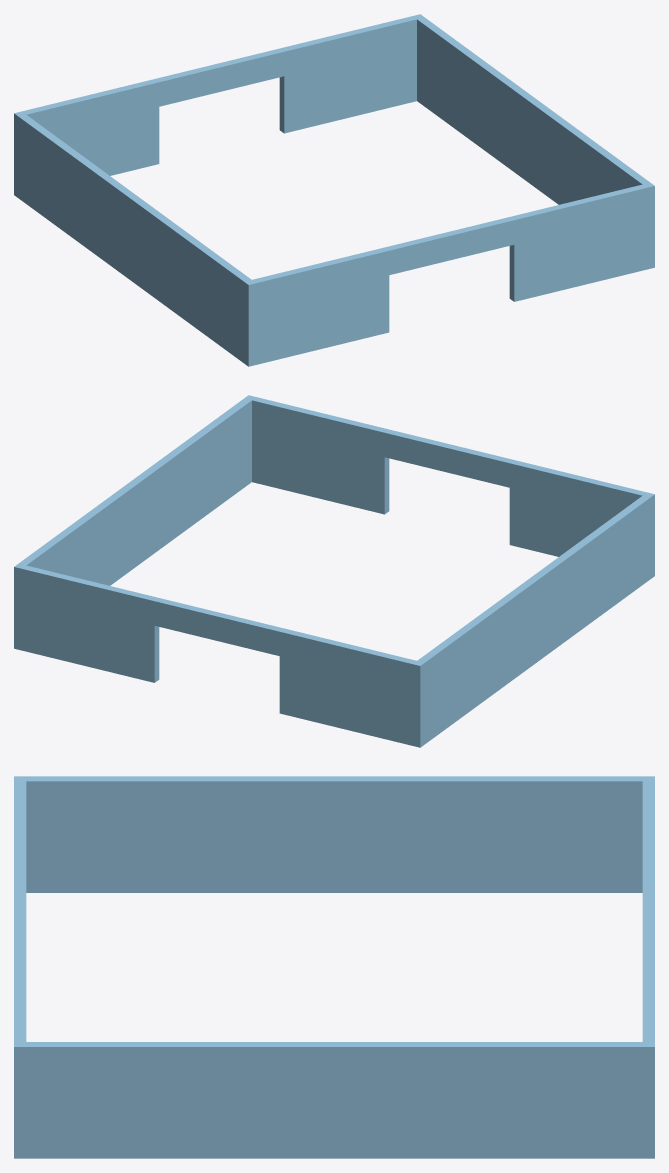
Rendered from Walls.dae.
The picture shows the model from 3 angles, top to bottom: view 1: azimuth 30°, elevation 25°; view 2: azimuth 150°, elevation 25°; view 3: azimuth 270°, elevation 25°; orthographic projection. The views are drawn at different scales.
Parts seen in each view (by area): view 1: ID2; view 2: ID2; view 3: ID2.
Part boxes in pixels (<box>): ID2: <box>14,14,654,366</box>; ID2: <box>14,395,654,747</box>; ID2: <box>14,776,654,1158</box>.
Size of the model in its own units: 52 by 52 by 10.
